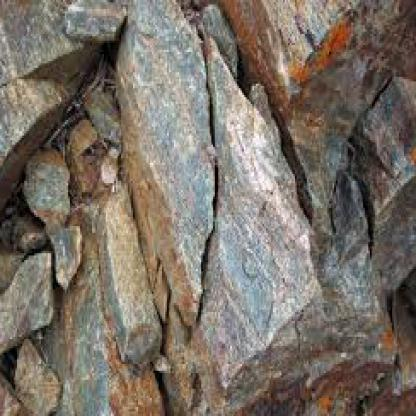Metamorphic_Quartize: (266, 4, 414, 407), (61, 3, 222, 332), (0, 244, 53, 385), (17, 136, 73, 246), (10, 339, 56, 414)
